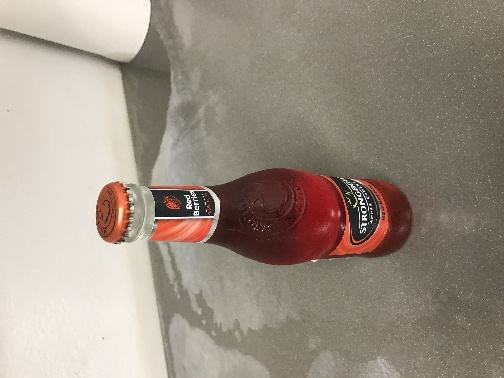SRB: (170, 126, 290, 191), (67, 131, 169, 178)
